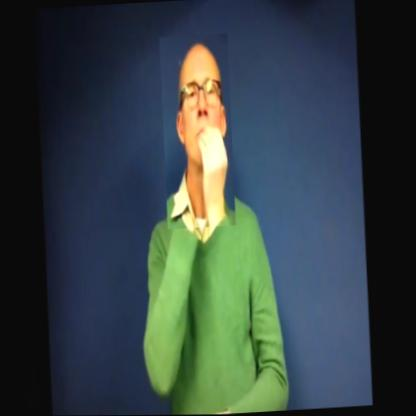Food: (158, 34, 237, 229)
